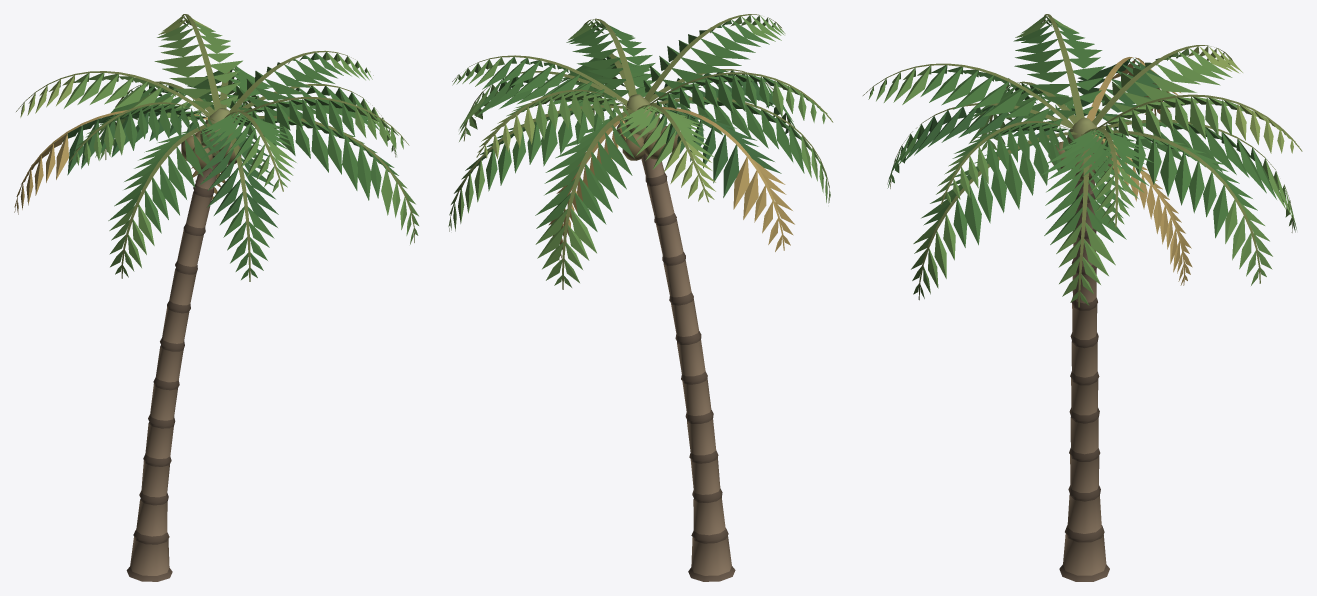
Rendered from palm.glb.
3 renders of one model, left to right at view 1: azimuth 30°, elevation 25°; view 2: azimuth 150°, elevation 25°; view 3: azimuth 270°, elevation 25°, orthographic. The views are drawn at different scales.
Parts seen in each view (by area): view 1: palm; view 2: palm; view 3: palm.
Boxes of the visible parts, left/top/right/bottom form: palm: left=14, top=14, right=418, bottom=581; palm: left=448, top=14, right=833, bottom=581; palm: left=863, top=14, right=1302, bottom=581.
Bounding box in the file's own units: 2.29 × 3.04 × 2.28.
